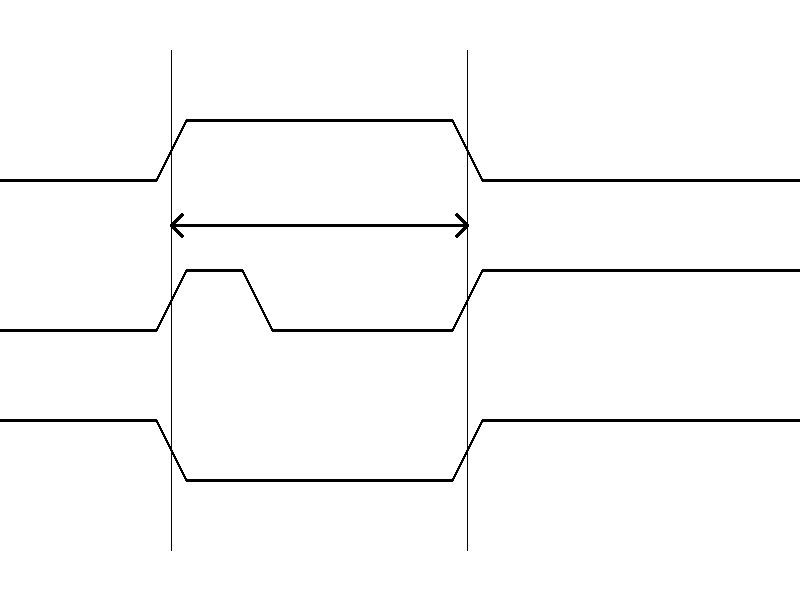double_arrow: (171, 210, 467, 240)
